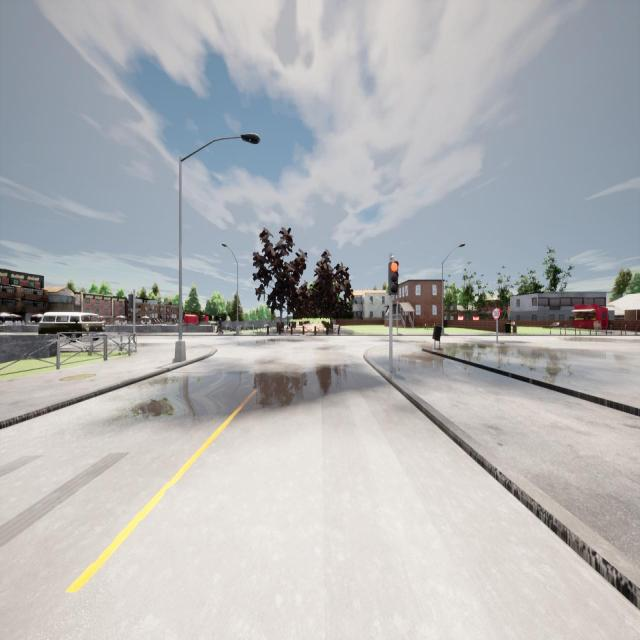Pedestrian: (215, 315, 224, 333)
Traffic_Signs: (492, 308, 501, 319)
Vehicle: (38, 312, 104, 342)
traffic_light: (388, 261, 398, 295), (128, 294, 134, 309)
